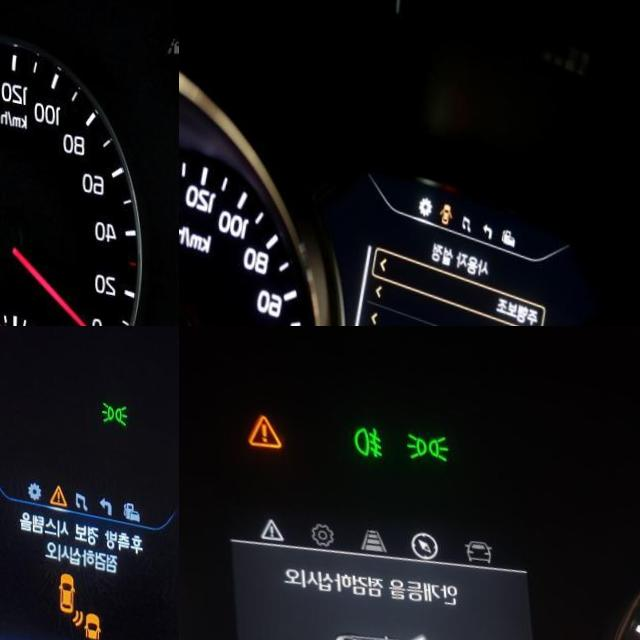Central Warning lamp: (246, 403, 287, 445), (51, 469, 71, 495)
Doors: (440, 187, 457, 213)
FrontFogLight: (354, 410, 386, 449)
SideLamp: (407, 413, 452, 453), (103, 384, 130, 412)
